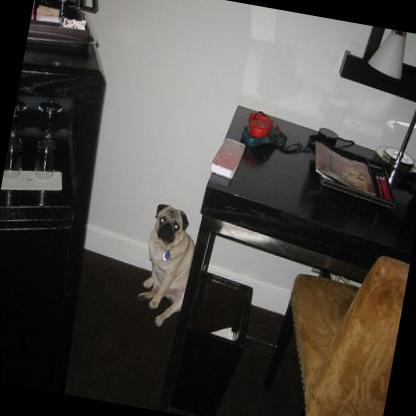pug: (130, 200, 200, 328)
